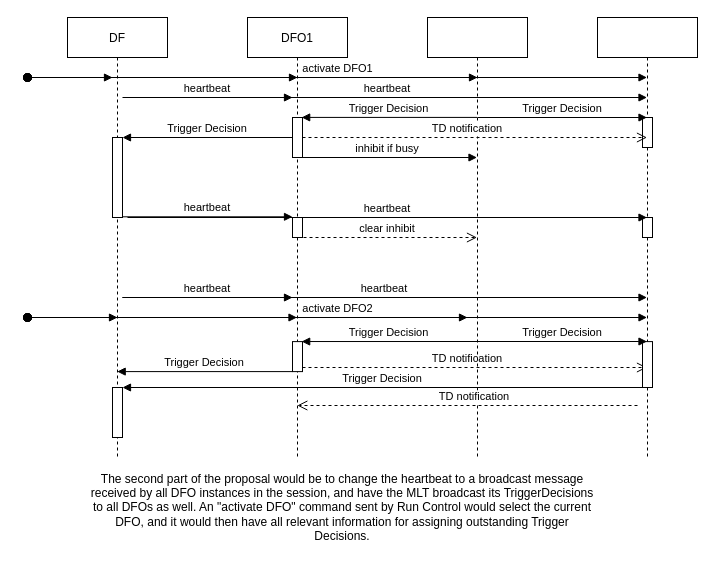
This 715x575 diagram has some shape labels left out. The box of each missing label's shape, as (x1, y1, x2, y2) in pixels:
DFO2: (596, 16, 698, 458)
MLT: (426, 16, 528, 458)
